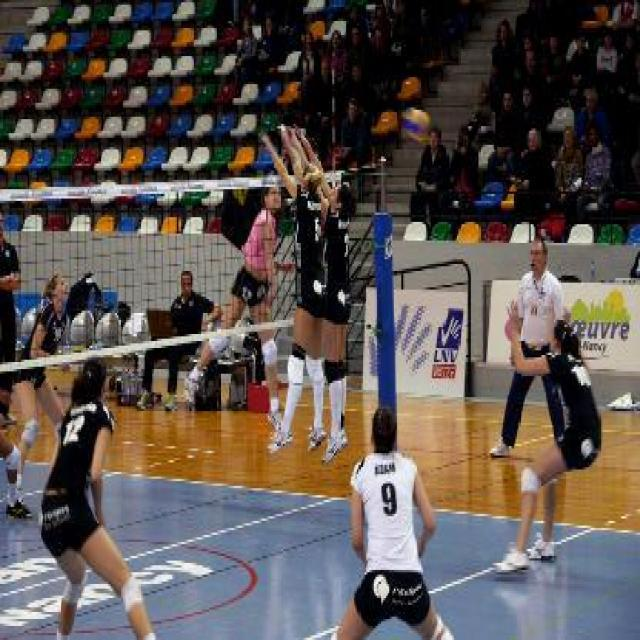volleyball: (400, 110, 432, 140)
